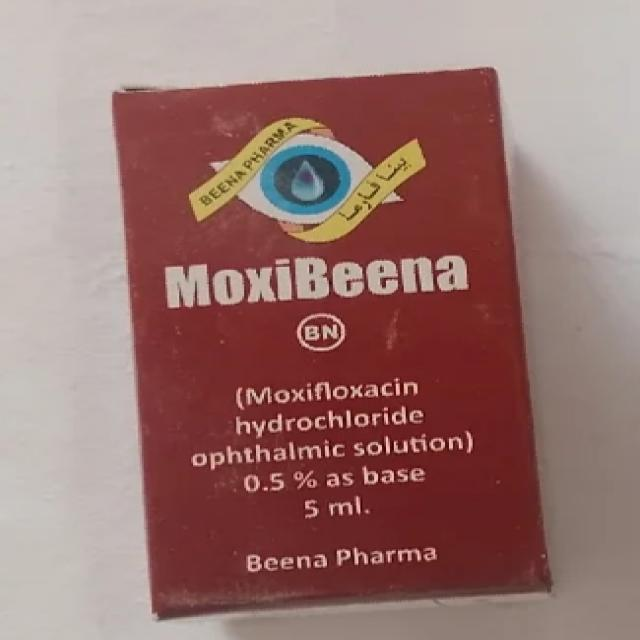drug-name: (159, 256, 487, 310)
